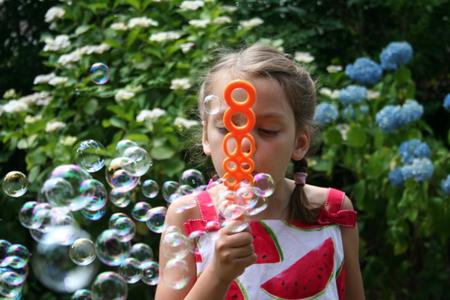person: (155, 49, 375, 299)
